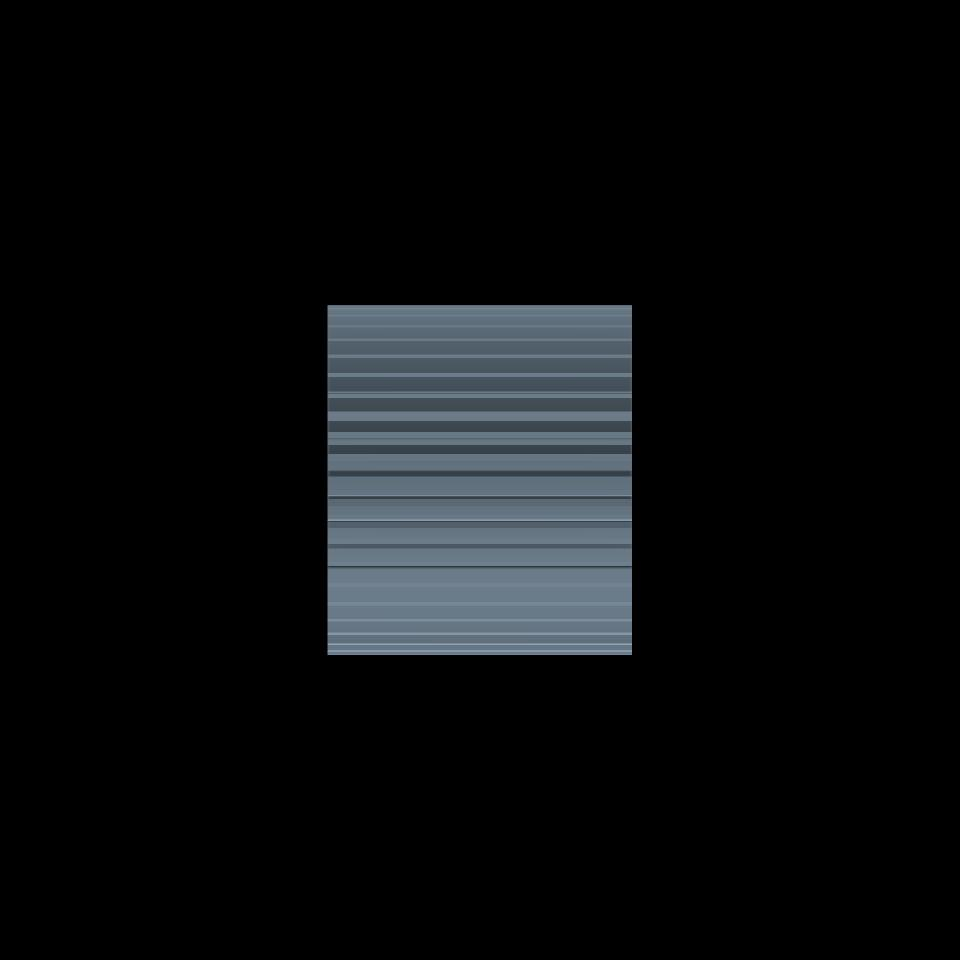Straight: (329, 305, 631, 654)
